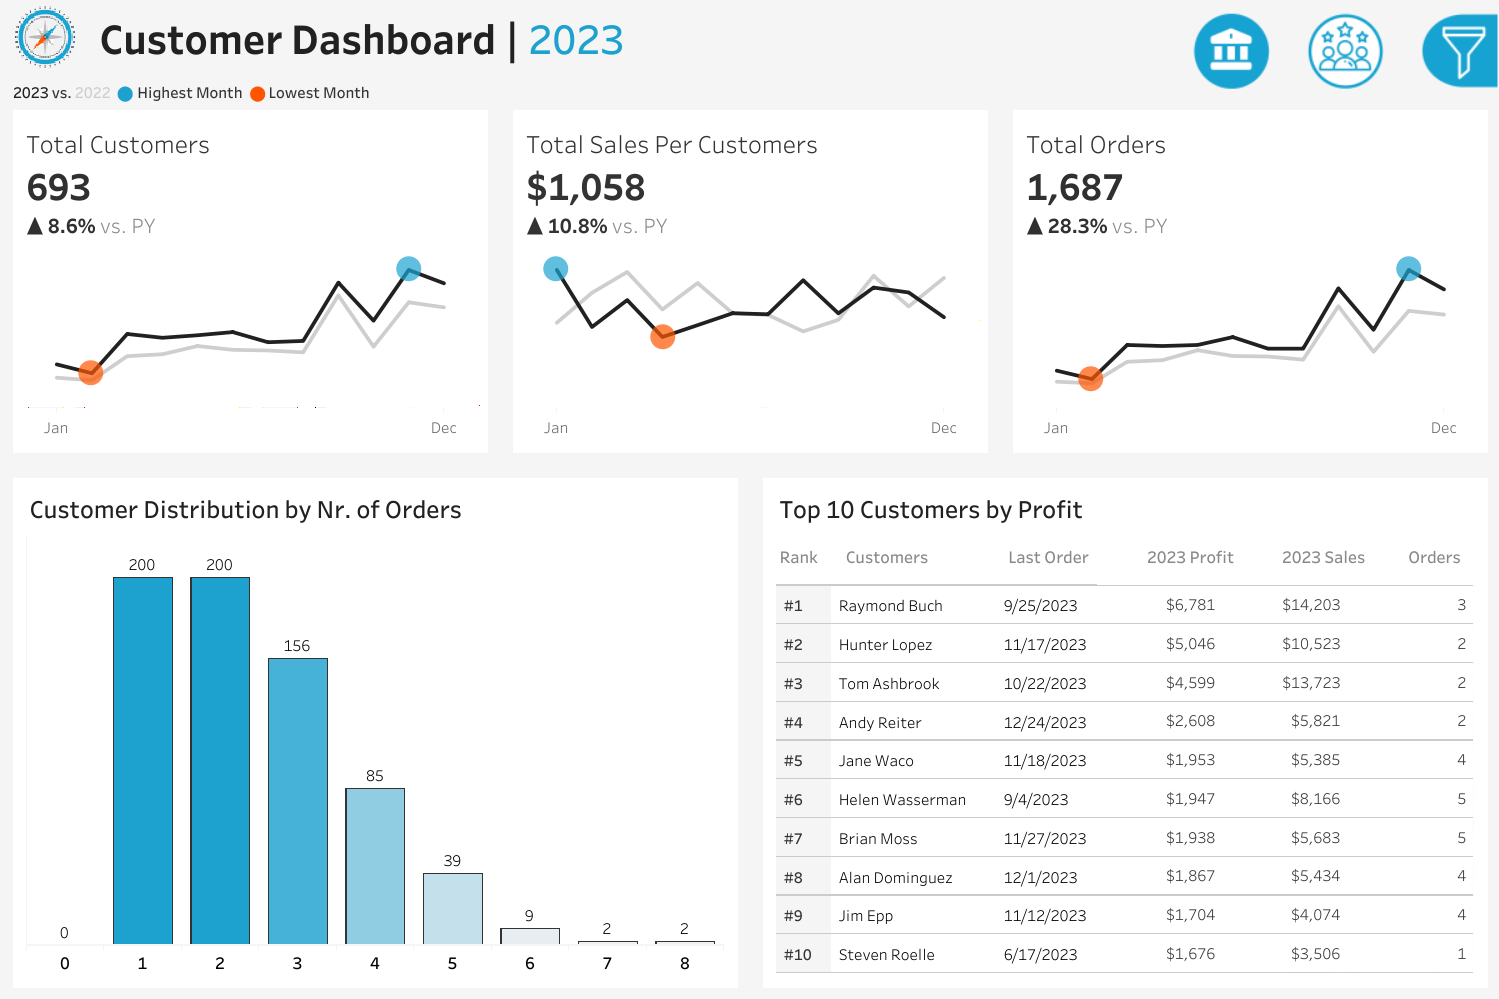

The page's visual inventory and layout, read from the dashboard file:
{"tool":"tableau","page":{"name":"Customer Dashboard","canvas":[1200,800],"ordinal":0},"visuals":[{"type":"image","param":"Image/Icon - Logo.png","box":[0,0,73,59]},{"type":"text","box":[73,0,820,59]},{"type":"dashboard-object","box":[940,6,91,70]},{"type":"dashboard-object","box":[1031,6,91,70]},{"type":"blank","box":[952,10,237,86]},{"type":"worksheet","title":"Legend KPI","mark":"Automatic","box":[0,59,1200,29]},{"type":"worksheet","title":"KPI Customers","mark":"Automatic","rows":["Min/Max Quantity (copy)_3221481164588691468"],"cols":["Order Date"],"box":[0,88,400,284]},{"type":"worksheet","title":"KPI Sales Per Customers","mark":"Automatic","rows":["Min/Max Quantity (copy)_3221481164537155591"],"cols":["Order Date"],"box":[400,88,400,284]},{"type":"worksheet","title":"KPI Orders","mark":"Automatic","rows":["Min/Max Sales (copy)_3221481164601258003"],"cols":["Order Date"],"box":[800,88,400,284]},{"type":"text","box":[952,96,237,37]},{"type":"parameter","param":"[Parameters].[Parameter 1]","box":[952,133,237,55]},{"type":"text","box":[952,188,237,32]},{"type":"filter","title":"KPI Customers","param":"[federated.1kpxa041aiai2y1cl4pui1t4eju9].[none:Category:nk]","box":[952,220,237,57]},{"type":"filter","title":"KPI Customers","param":"[federated.1kpxa041aiai2y1cl4pui1t4eju9].[none:Sub-Category:nk]","box":[952,277,237,57]},{"type":"blank","box":[952,334,237,60]},{"type":"text","box":[17,389,566,40]},{"type":"text","box":[617,389,566,40]},{"type":"text","box":[952,394,237,32]},{"type":"filter","title":"KPI Customers","param":"[federated.1kpxa041aiai2y1cl4pui1t4eju9].[none:Region:nk]","box":[952,426,237,57]},{"type":"worksheet","title":"Customer Distribution","mark":"Bar","rows":["CY Sales (copy)_3221481164532666369"],"cols":["Calculation_998110323739992064"],"box":[17,429,566,354]},{"type":"text","box":[617,429,53,40]},{"type":"text","box":[670,429,130,40]},{"type":"text","box":[800,429,111,40]},{"type":"text","box":[911,429,108,40]},{"type":"text","box":[1019,429,101,40]},{"type":"text","box":[1120,429,63,40]},{"type":"worksheet","title":"Top Customers","mark":"Automatic","rows":["Calculation_782500491678904334","Customer Name","Order Date"],"box":[617,469,566,314]},{"type":"filter","title":"KPI Customers","param":"[federated.1kpxa041aiai2y1cl4pui1t4eju9].[none:State:nk]","box":[952,483,237,57]},{"type":"filter","title":"KPI Customers","param":"[federated.1kpxa041aiai2y1cl4pui1t4eju9].[none:City:nk]","box":[952,540,237,57]}]}

Visuals, with their boxes in screenshot pixels (x1, y1, x2, y2), scaled from the page's 1200x800 canvas onto the 1499x999 screenshot:
image: x1=0, y1=0, x2=91, y2=74
text: x1=91, y1=0, x2=1116, y2=74
dashboard-object: x1=1174, y1=7, x2=1288, y2=95
dashboard-object: x1=1288, y1=7, x2=1402, y2=95
blank: x1=1189, y1=12, x2=1485, y2=120
"Legend KPI" worksheet: x1=0, y1=74, x2=1498, y2=110
"KPI Customers" worksheet: x1=0, y1=110, x2=500, y2=465
"KPI Sales Per Customers" worksheet: x1=500, y1=110, x2=999, y2=465
"KPI Orders" worksheet: x1=999, y1=110, x2=1498, y2=465
text: x1=1189, y1=120, x2=1485, y2=166
parameter: x1=1189, y1=166, x2=1485, y2=235
text: x1=1189, y1=235, x2=1485, y2=275
"KPI Customers" filter: x1=1189, y1=275, x2=1485, y2=346
"KPI Customers" filter: x1=1189, y1=346, x2=1485, y2=417
blank: x1=1189, y1=417, x2=1485, y2=492
text: x1=21, y1=486, x2=728, y2=536
text: x1=771, y1=486, x2=1478, y2=536
text: x1=1189, y1=492, x2=1485, y2=532
"KPI Customers" filter: x1=1189, y1=532, x2=1485, y2=603
"Customer Distribution" worksheet (Bar marks): x1=21, y1=536, x2=728, y2=978
text: x1=771, y1=536, x2=837, y2=586
text: x1=837, y1=536, x2=999, y2=586
text: x1=999, y1=536, x2=1138, y2=586
text: x1=1138, y1=536, x2=1273, y2=586
text: x1=1273, y1=536, x2=1399, y2=586
text: x1=1399, y1=536, x2=1478, y2=586
"Top Customers" worksheet: x1=771, y1=586, x2=1478, y2=978
"KPI Customers" filter: x1=1189, y1=603, x2=1485, y2=674
"KPI Customers" filter: x1=1189, y1=674, x2=1485, y2=746
